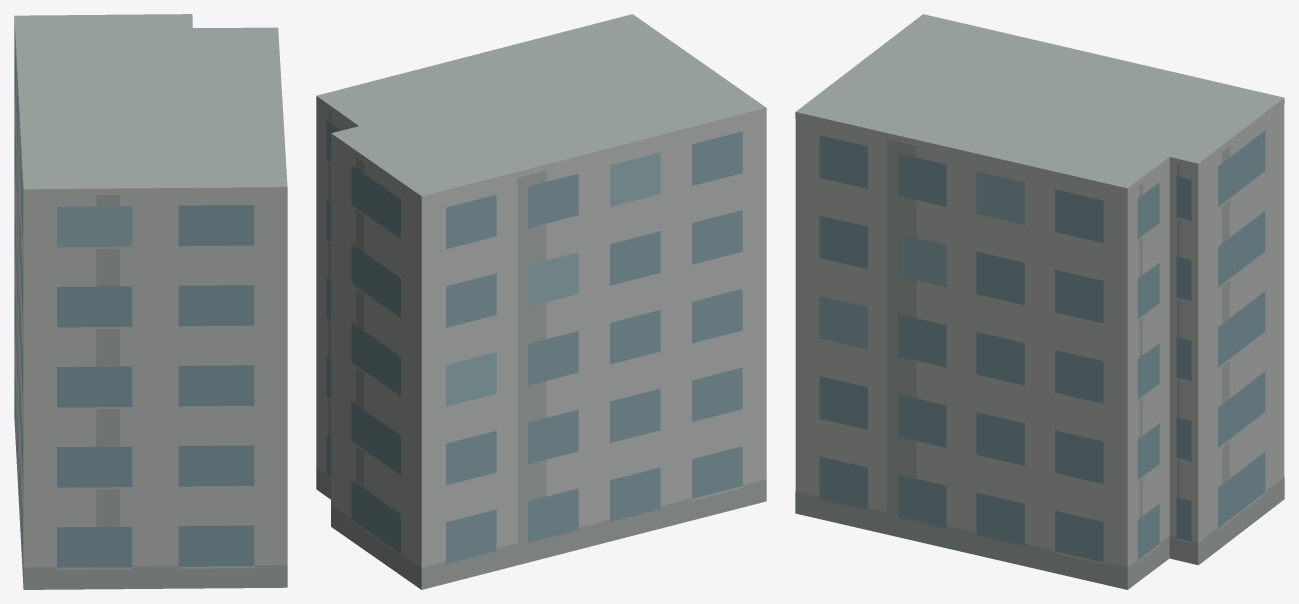
The model's file is survey-upis-32682398.glb.
3 renders of one model, left to right at view 1: azimuth 30°, elevation 25°; view 2: azimuth 150°, elevation 25°; view 3: azimuth 270°, elevation 25°, orthographic. The views are drawn at different scales.
Visible parts, largest first — view 1: survey-upis-32682398.tmp; view 2: survey-upis-32682398.tmp; view 3: survey-upis-32682398.tmp.
Part boxes in pixels (x1,y1,x2,y2): survey-upis-32682398.tmp: (14,14,287,589); survey-upis-32682398.tmp: (316,14,766,589); survey-upis-32682398.tmp: (795,14,1284,589).
Size of the model in its own units: 14.21 by 15.25 by 16.84.
